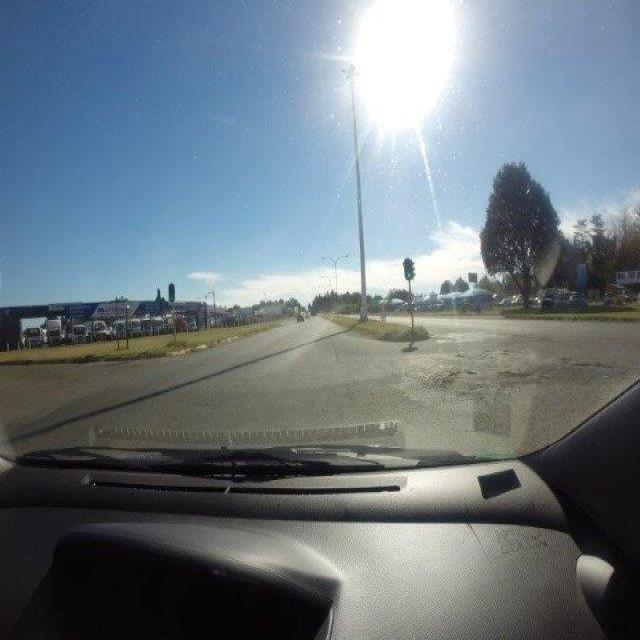lubang: (434, 358, 476, 390), (497, 367, 543, 384)
